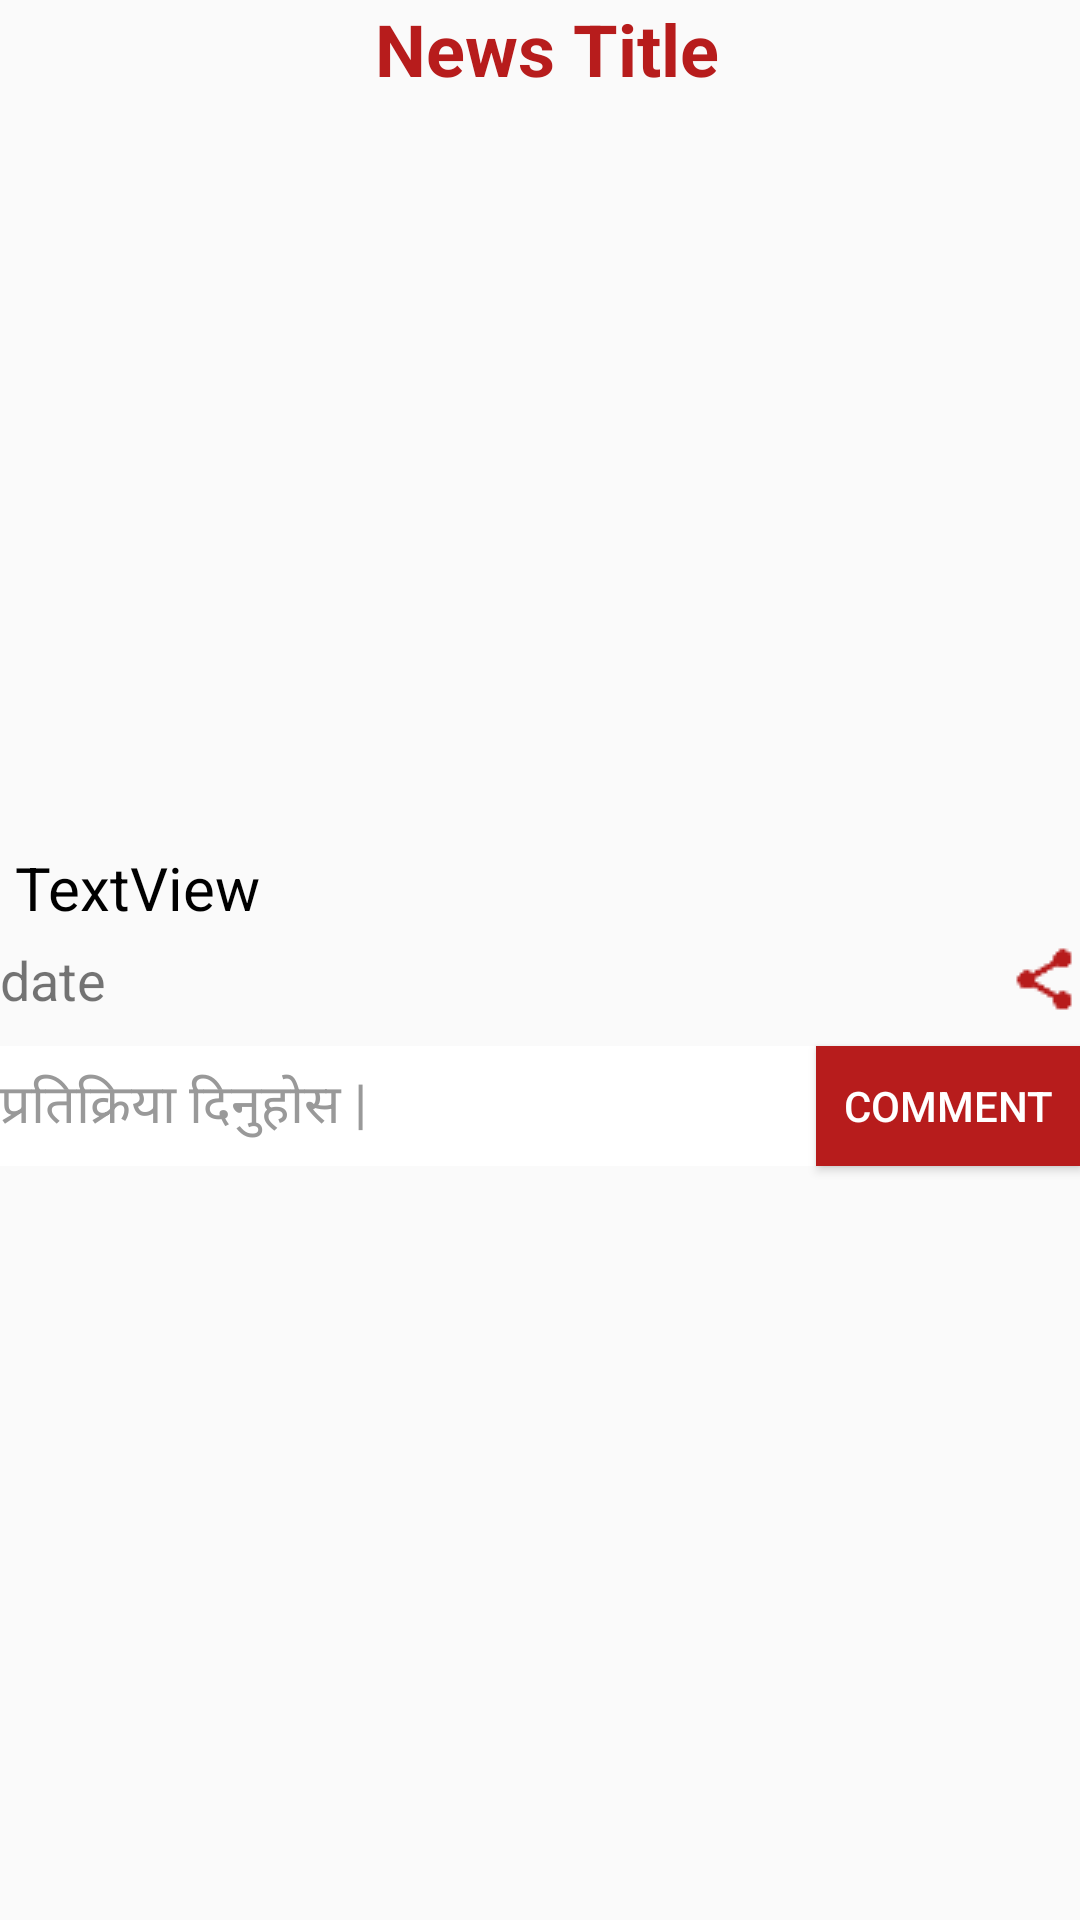

Named icons in this screenshot (1080 × 1920) and their bounding boxes, (x1, y1, x2, y2):
shares: (1016, 948, 1072, 1010)
